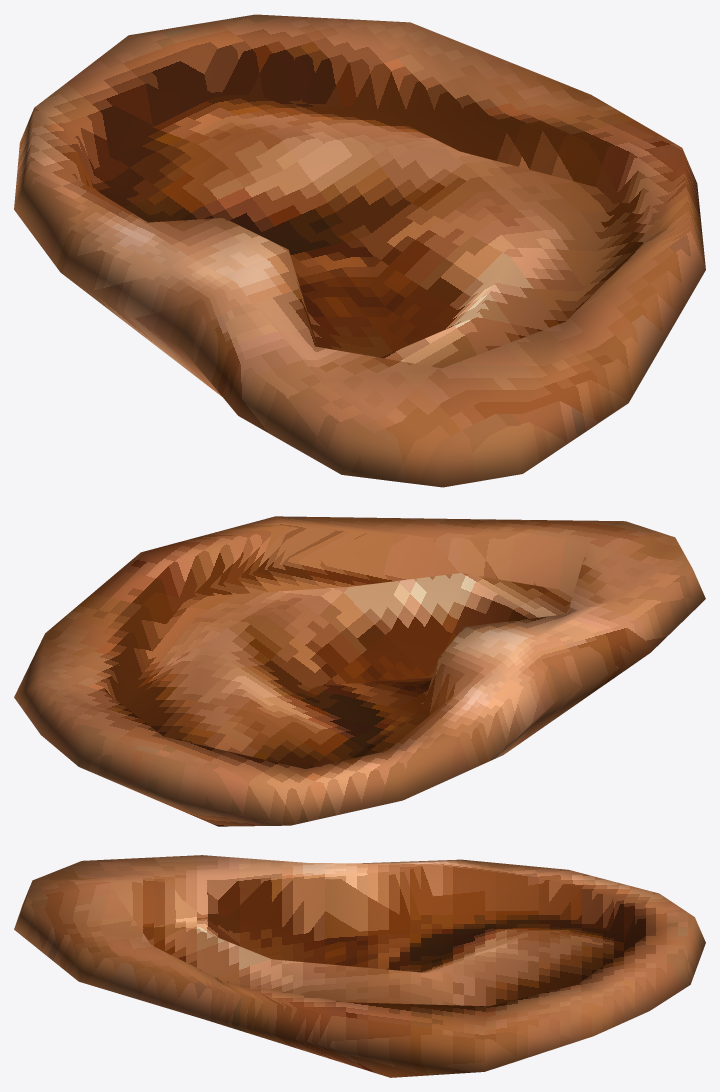
The model's file is st_ear.glb.
3 views of the same model, one above another, from view 1: azimuth 30°, elevation 25°; view 2: azimuth 150°, elevation 25°; view 3: azimuth 270°, elevation 25° (orthographic). The views are drawn at different scales.
Visible parts, largest first — view 1: st_ear-col; view 2: st_ear-col; view 3: st_ear-col.
Boxes of the visible parts, left/top/right/bottom form: st_ear-col: left=14, top=14, right=705, bottom=487; st_ear-col: left=14, top=516, right=705, bottom=826; st_ear-col: left=14, top=855, right=705, bottom=1077.
Bounding box in the file's own units: 0.1105 × 0.0298 × 0.1656.
1 material, 1 textured.
